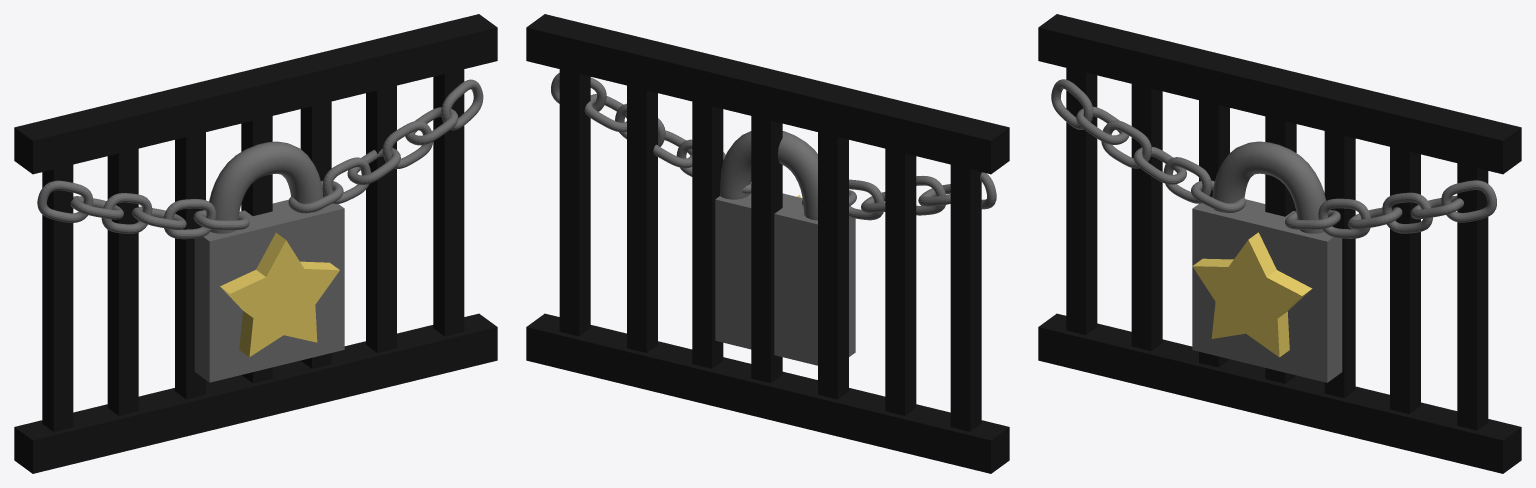
File: NewCage_Star_C.fbx
3 renders of one model, left to right at view 1: azimuth 30°, elevation 25°; view 2: azimuth 150°, elevation 25°; view 3: azimuth 330°, elevation 25°, orthographic.
Parts seen in each view (by area): view 1: Cube.007, Cube.008, Cube.009, Cylinder.002, Cube.004, Cylinder.003, Cube.005, Cube.003, Cube.002, Cube.006, Cylinder, Cube.001 (+1 smaller); view 2: Cube.007, Cube.008, Cube.009, Cube.005, Cube.004, Cube.003, Cube.006, Cube.002, Cube.001, Cube, Cylinder.002, Cylinder; view 3: Cube.007, Cube.008, Cube.009, Cylinder.002, Cube.003, Cylinder.003, Cube.005, Cube.004, Cube.002, Cube.001, Cylinder, Cube.006 (+1 smaller).
Boxes of the visible parts, x1=… form: Cube.007: x1=14, y1=14, x2=497, y2=174; Cube.008: x1=14, y1=313, x2=497, y2=473; Cube.009: x1=194, y1=199, x2=344, y2=382; Cylinder.002: x1=37, y1=79, x2=483, y2=239; Cube.004: x1=42, y1=164, x2=73, y2=431; Cylinder.003: x1=220, y1=233, x2=339, y2=356; Cube.005: x1=107, y1=148, x2=138, y2=415; Cube.003: x1=433, y1=69, x2=464, y2=336; Cube.002: x1=366, y1=85, x2=396, y2=352; Cube.006: x1=175, y1=132, x2=205, y2=399; Cylinder: x1=209, y1=141, x2=323, y2=233; Cube.001: x1=300, y1=101, x2=331, y2=368; Cube.007: x1=526, y1=14, x2=1009, y2=174; Cube.008: x1=526, y1=313, x2=1009, y2=473; Cube.009: x1=715, y1=193, x2=855, y2=365; Cube.005: x1=885, y1=148, x2=916, y2=415; Cube.004: x1=950, y1=164, x2=981, y2=431; Cube.003: x1=559, y1=69, x2=590, y2=336; Cube.006: x1=818, y1=132, x2=848, y2=399; Cube.002: x1=627, y1=85, x2=657, y2=352; Cube.001: x1=692, y1=101, x2=723, y2=368; Cube: x1=751, y1=116, x2=782, y2=383; Cylinder.002: x1=551, y1=73, x2=996, y2=220; Cylinder: x1=720, y1=131, x2=817, y2=220; Cube.007: x1=1038, y1=14, x2=1521, y2=174; Cube.008: x1=1038, y1=313, x2=1521, y2=473; Cube.009: x1=1192, y1=199, x2=1342, y2=382; Cylinder.002: x1=1051, y1=79, x2=1496, y2=238; Cube.003: x1=1457, y1=163, x2=1488, y2=430; Cylinder.003: x1=1192, y1=232, x2=1312, y2=357; Cube.005: x1=1131, y1=84, x2=1162, y2=350; Cube.004: x1=1066, y1=68, x2=1097, y2=334; Cube.002: x1=1390, y1=147, x2=1420, y2=413; Cube.001: x1=1324, y1=131, x2=1355, y2=397; Cylinder: x1=1212, y1=141, x2=1326, y2=233; Cube.006: x1=1199, y1=100, x2=1229, y2=367.
Bounding box in the file's own units: 865 × 592 × 129.
